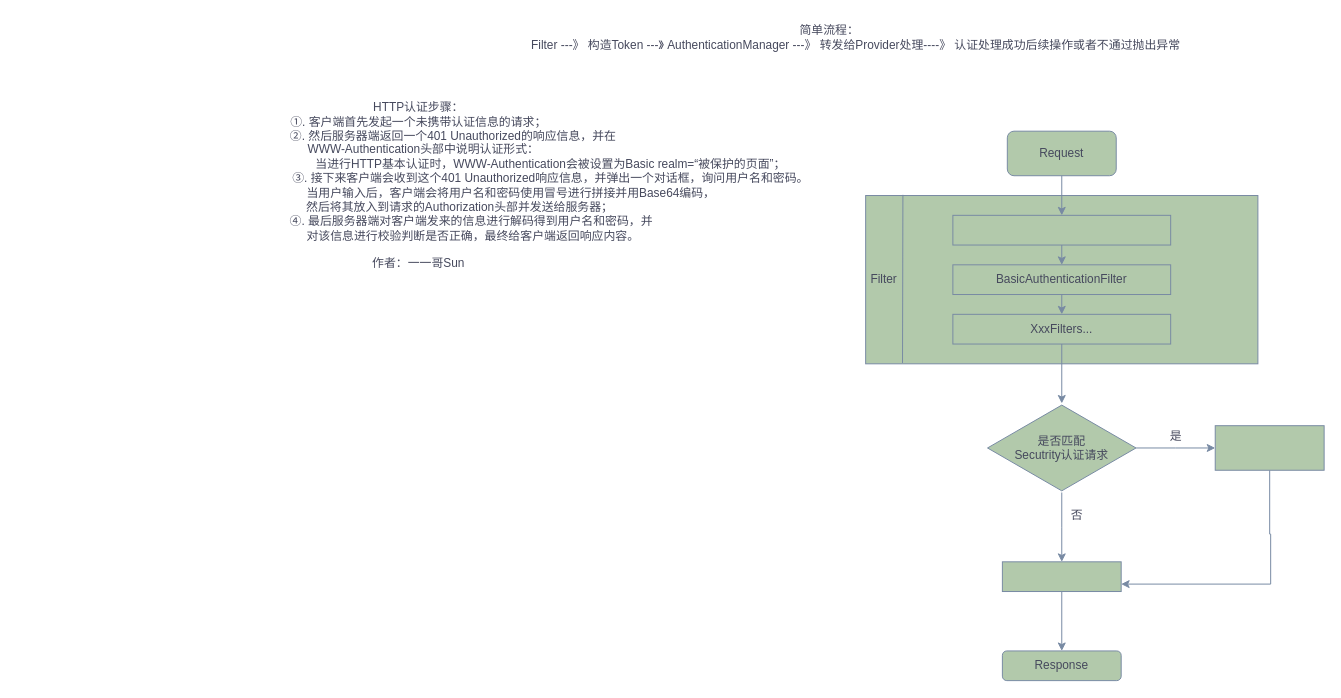
The diagram is 1341 pixels wide and 698 high, and some of its shapes have lost their labels. The centre of each missing label's shape, as x and y in pixels:
"Security处理模块" belongs at point 1269,447.
"UsernamePasswordAuthenticationFilter" belongs at point 1061,229.
"业务逻辑" belongs at point 1061,576.
